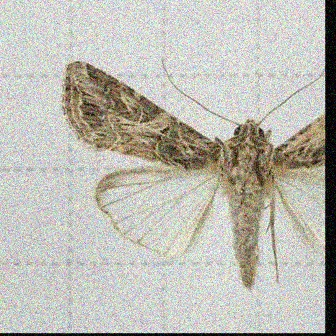Spodoptera litura: (60, 58, 325, 289)
